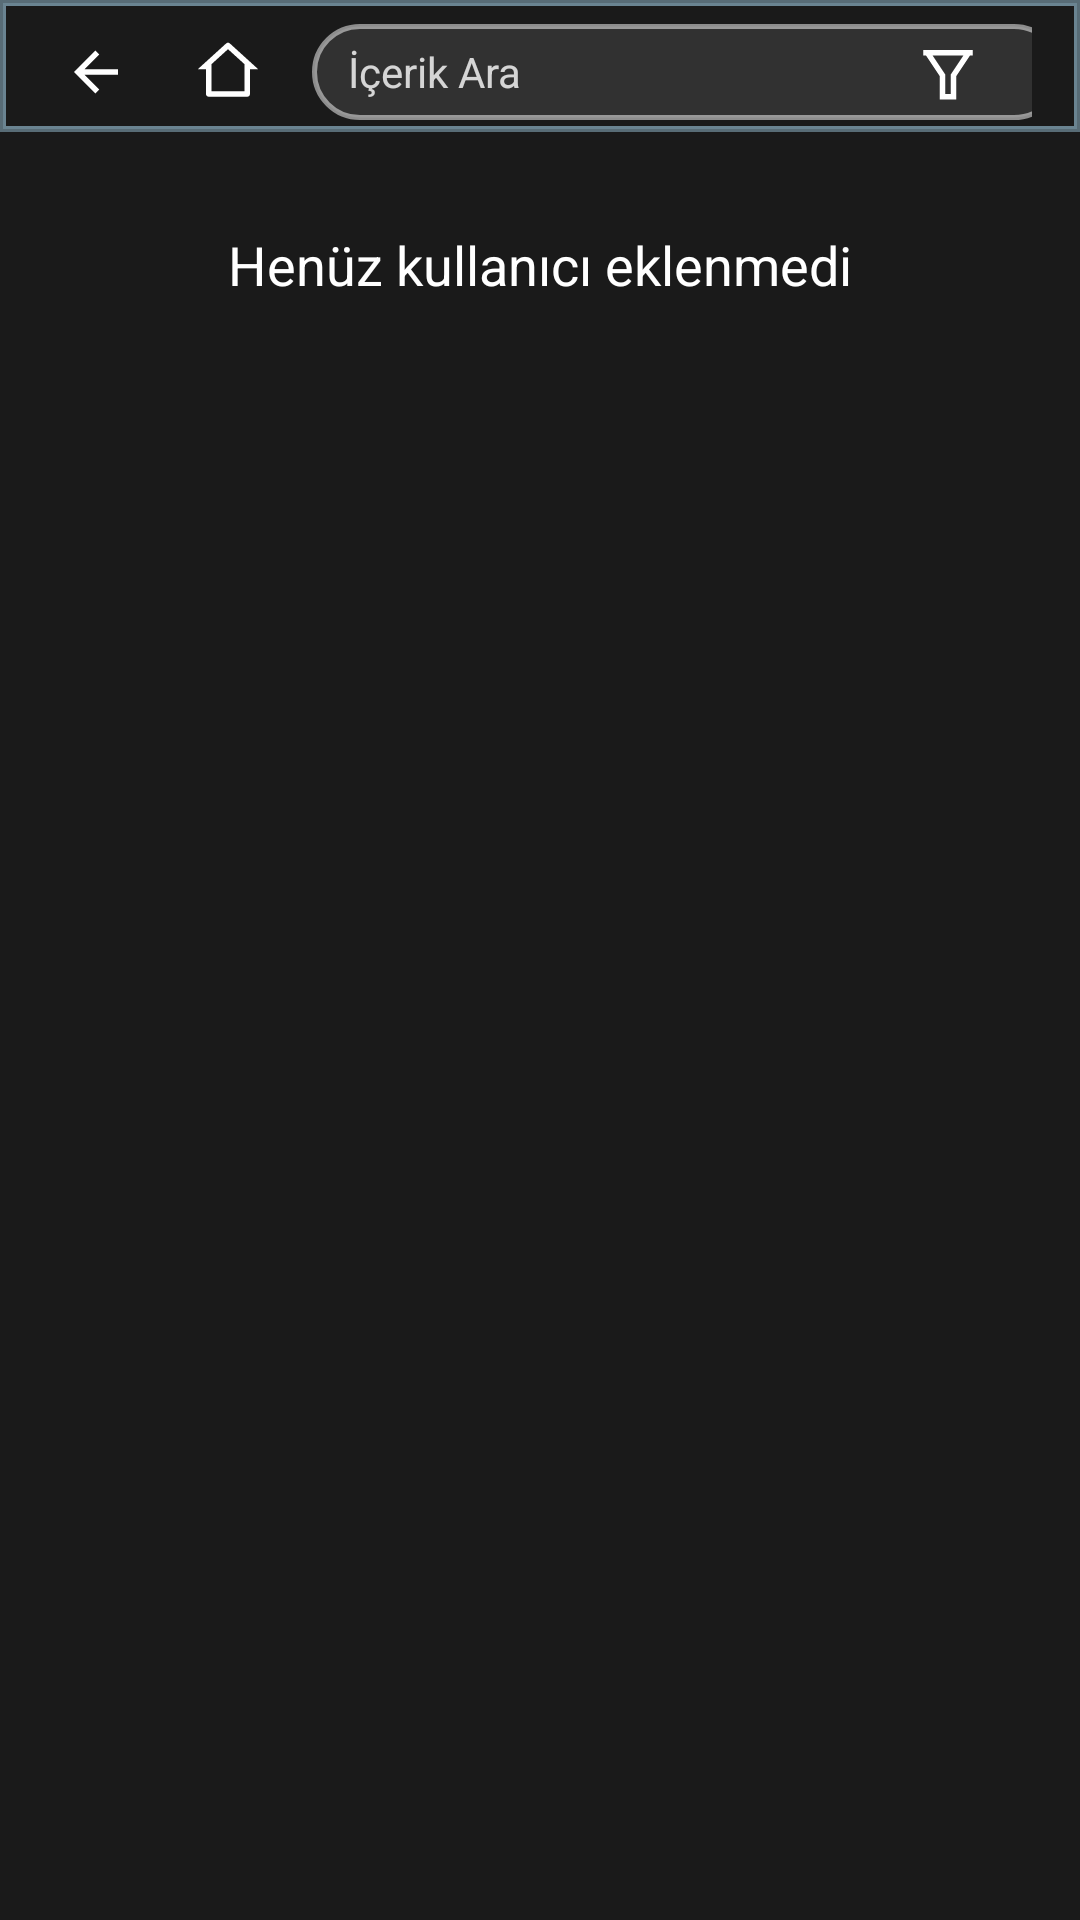

Screen size 1080 x 1920. Icon name, then its box in pixels as (x1=x1, y1=y1, x2=x2, y2=y2):
Ana sayfaya git: (x1=198, y1=42, x2=258, y2=97)
Filtre: (x1=900, y1=24, x2=996, y2=120)
Geri dön: (x1=74, y1=50, x2=118, y2=94)
